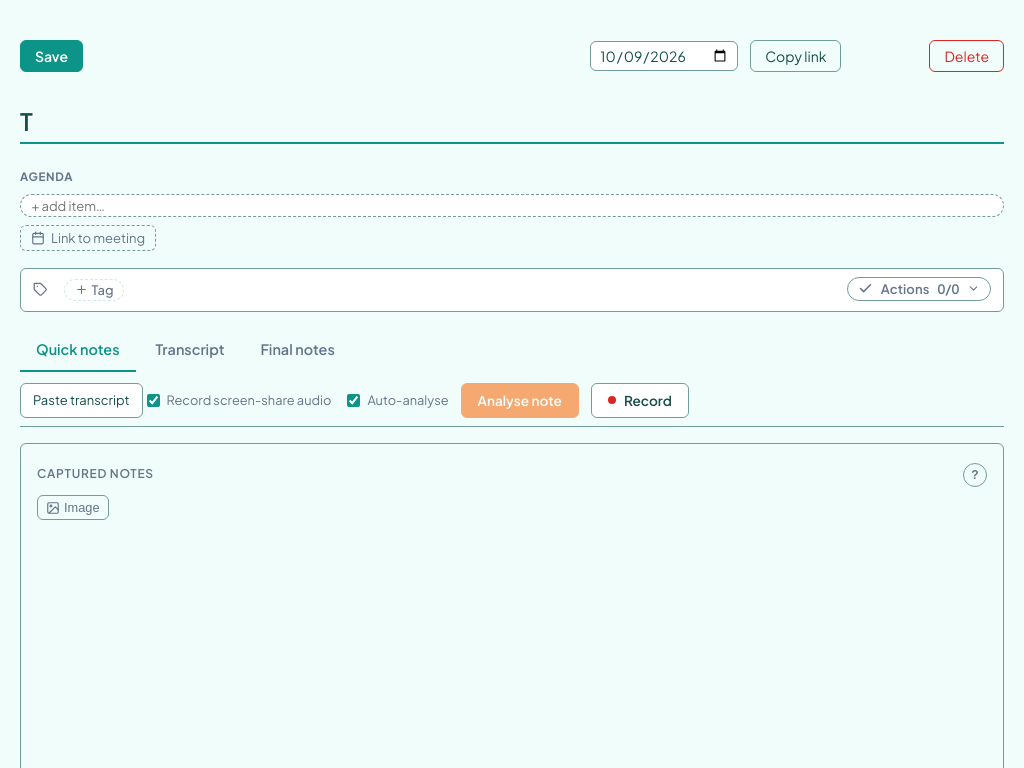
Test case: NoteView › three-tab layout › switching to the Final notes tab shows the final-notes view
Click the tab with test id "note-tab-final". click: (298, 350)
box: [244,328,351,372]
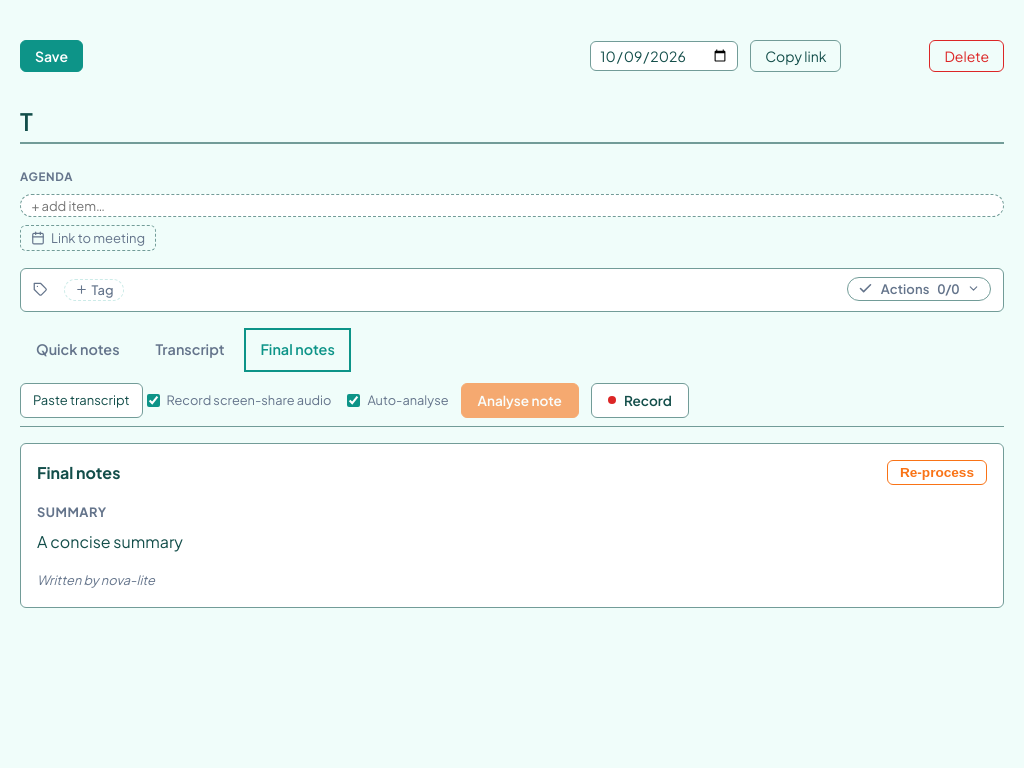
Expected: the text with test id "final-notes-summary" reads "A concise summary", [37,531,183,552]
